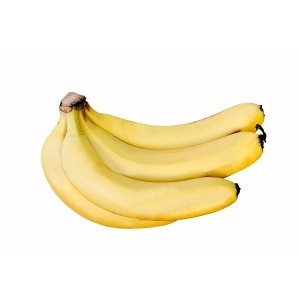banana_brain food: (129, 115, 248, 209)
